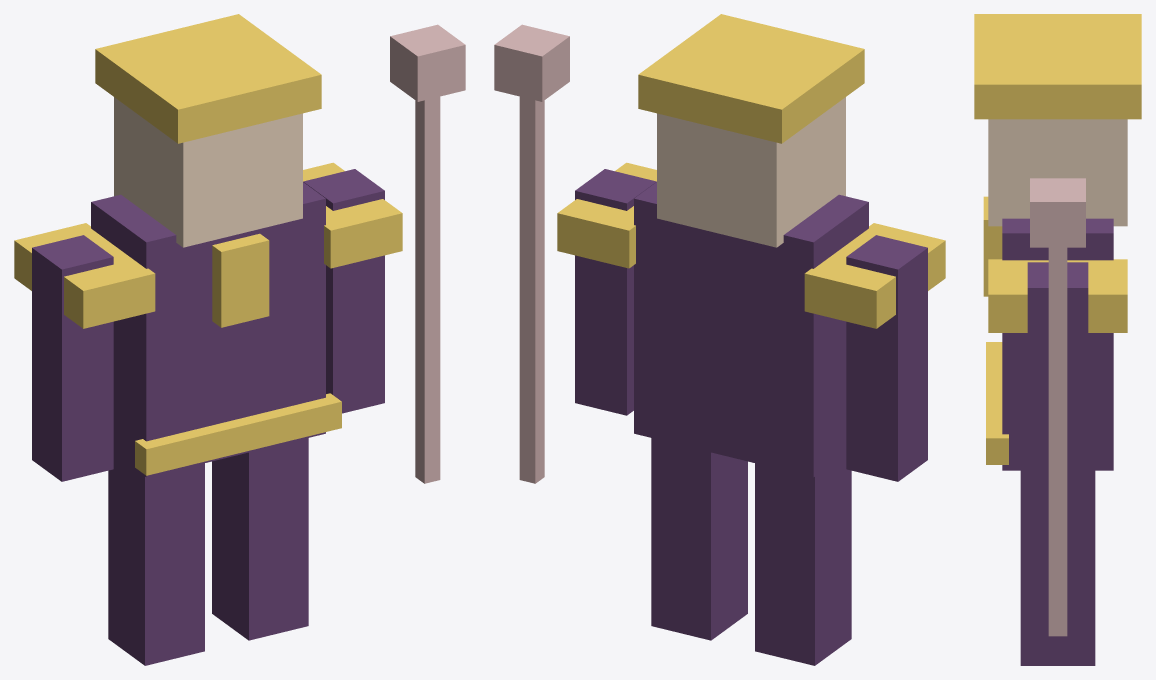
File: 15_draven_ashvein_mechanist_from_drone.glb
3 views of the same model, side by side, from view 1: azimuth 30°, elevation 25°; view 2: azimuth 150°, elevation 25°; view 3: azimuth 270°, elevation 25° (orthographic).
Parts seen in each view (by area): view 1: Draven Ashvein, Mechanist from Drone; view 2: Draven Ashvein, Mechanist from Drone; view 3: Draven Ashvein, Mechanist from Drone.
Boxes of the visible parts, x1,y1,x2,y2 form: Draven Ashvein, Mechanist from Drone: (14, 14, 465, 665); Draven Ashvein, Mechanist from Drone: (494, 14, 945, 665); Draven Ashvein, Mechanist from Drone: (974, 14, 1141, 665).
Size of the model in its own units: 1.05 by 1.41 by 0.3716.
